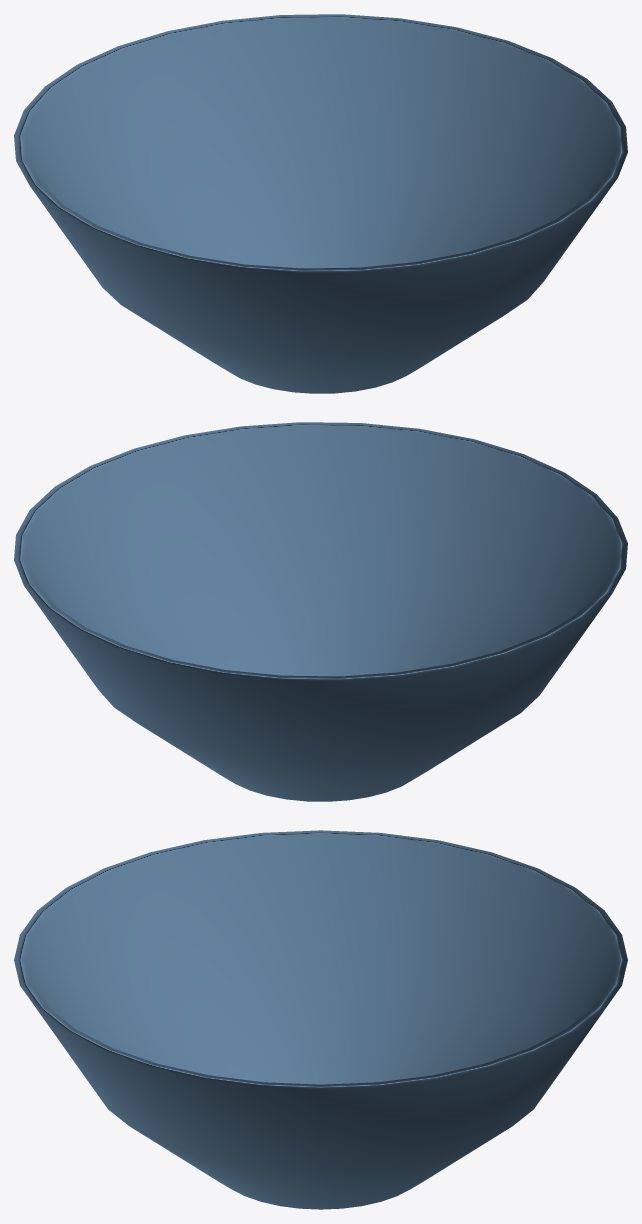
Rendered from LIT-BWL-std.glb.
3 views of the same model, one above another, from view 1: azimuth 30°, elevation 25°; view 2: azimuth 150°, elevation 25°; view 3: azimuth 270°, elevation 25° (orthographic).
Visible parts, largest first — view 1: LIT-BWL-std; view 2: LIT-BWL-std; view 3: LIT-BWL-std.
Boxes of the visible parts, x1=… form: LIT-BWL-std: x1=14, y1=14, x2=627, y2=393; LIT-BWL-std: x1=14, y1=422, x2=627, y2=801; LIT-BWL-std: x1=14, y1=830, x2=627, y2=1209.
Bounding box in the file's own units: 0.3 × 0.11 × 0.3.
